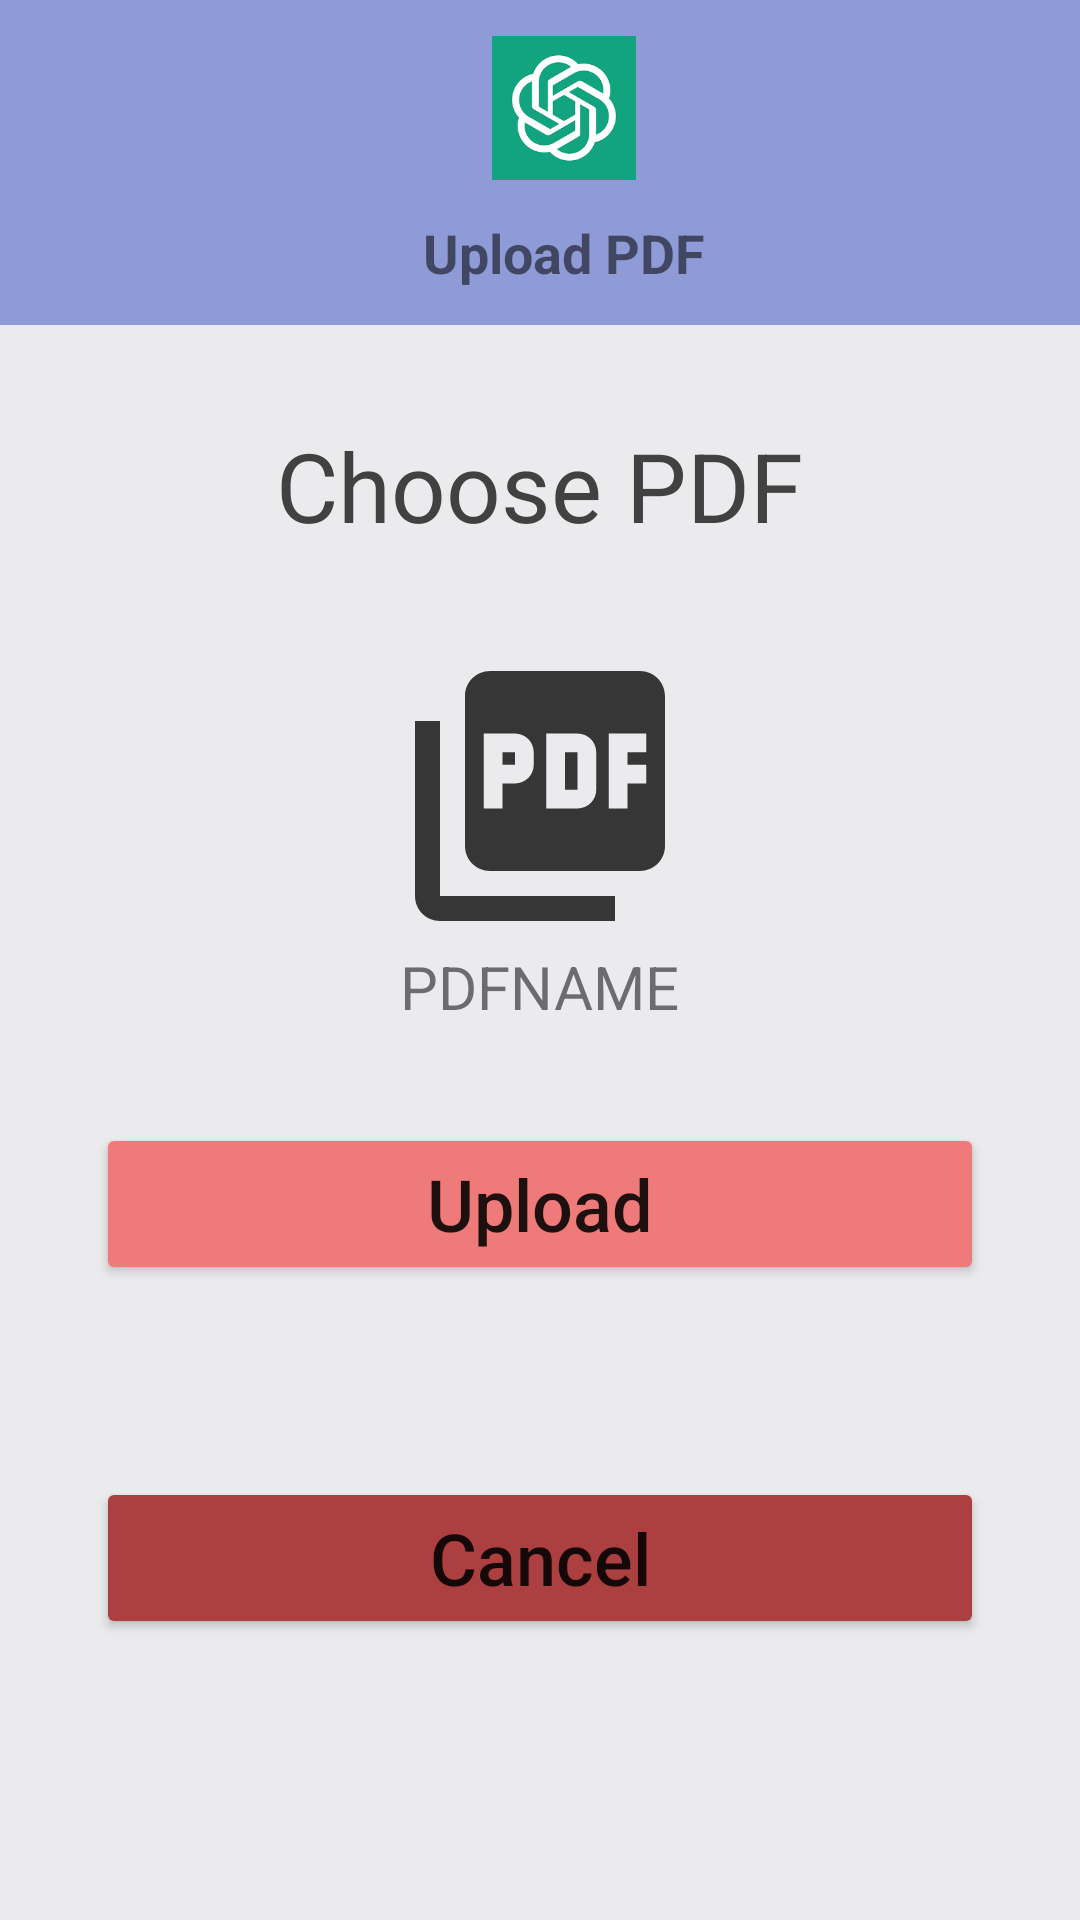

Screen size 1080 x 1920. Icon name, then its box in pixels as (x1, y1, x2, y2):
picture as pdf: (415, 671, 665, 921)
